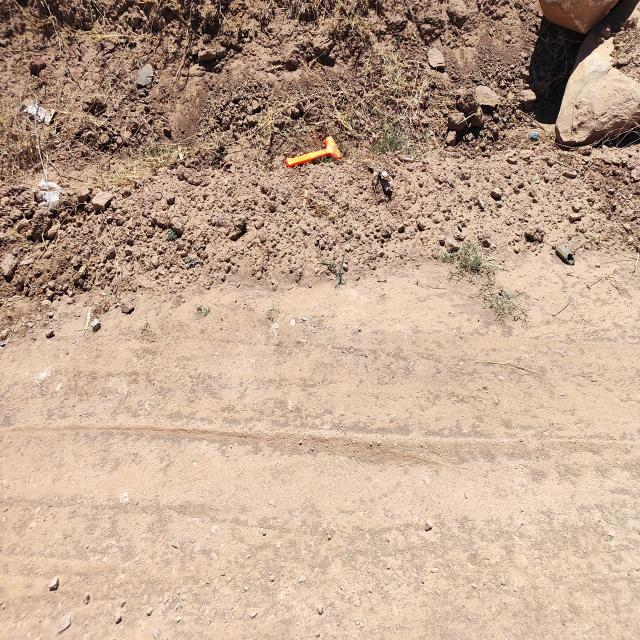Orange_hammer: (284, 135, 342, 168)
